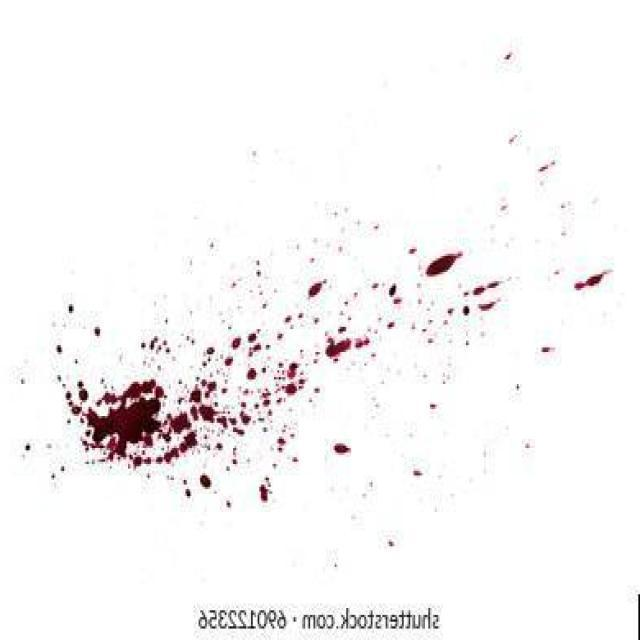flood: (38, 242, 626, 510)
